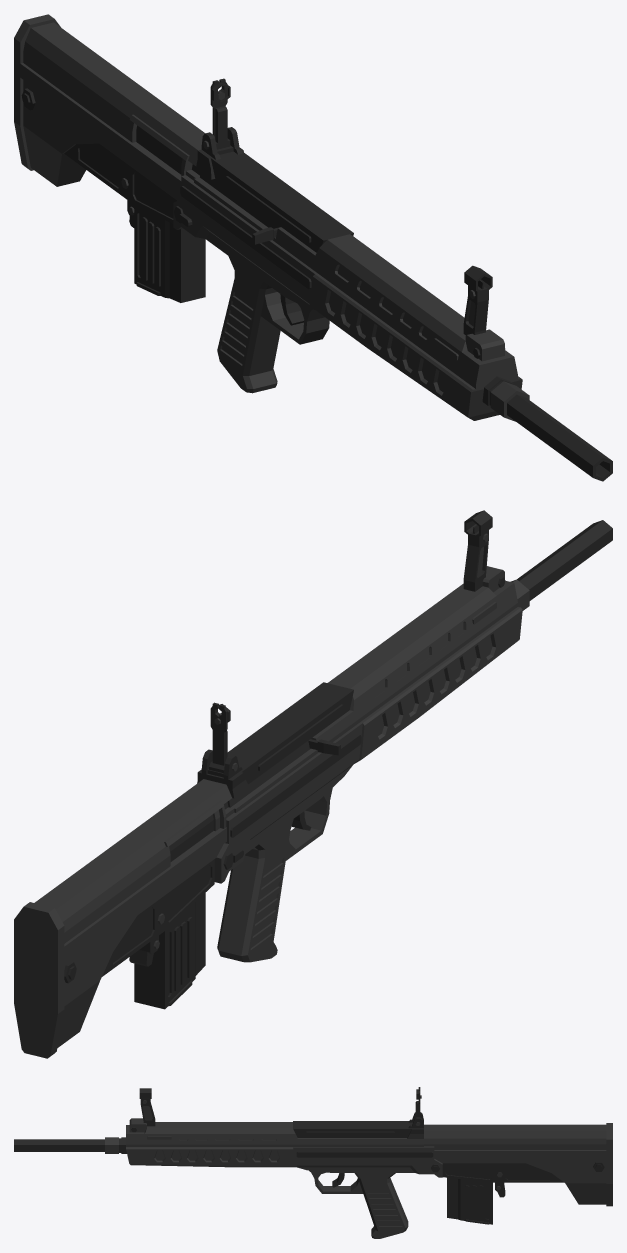
File: DMR_E.fbx
The picture shows the model from 3 angles, top to bottom: view 1: azimuth 30°, elevation 25°; view 2: azimuth 150°, elevation 25°; view 3: azimuth 270°, elevation 25°; orthographic projection. The views are drawn at different scales.
Parts seen in each view (by area): view 1: DMR_E_Receiver, DMR_E_Mag, DMR_E_Barrel, DMR_E_Sight_Forward, DMR_E_Sight_Back; view 2: DMR_E_Receiver, DMR_E_Mag, DMR_E_Barrel, DMR_E_Sight_Forward, DMR_E_Sight_Back; view 3: DMR_E_Receiver, DMR_E_Mag, DMR_E_Barrel, DMR_E_Sight_Forward.
Boxes of the visible parts, x1=… form: DMR_E_Receiver: x1=14, y1=14, x2=522, y2=420; DMR_E_Mag: x1=134, y1=204, x2=205, y2=302; DMR_E_Barrel: x1=482, y1=376, x2=612, y2=481; DMR_E_Sight_Forward: x1=463, y1=265, x2=492, y2=335; DMR_E_Sight_Back: x1=210, y1=78, x2=230, y2=149; DMR_E_Receiver: x1=14, y1=566, x2=522, y2=1058; DMR_E_Mag: x1=134, y1=893, x2=205, y2=1009; DMR_E_Barrel: x1=510, y1=520, x2=612, y2=610; DMR_E_Sight_Forward: x1=463, y1=510, x2=492, y2=591; DMR_E_Sight_Back: x1=209, y1=702, x2=230, y2=773; DMR_E_Receiver: x1=126, y1=1112, x2=612, y2=1238; DMR_E_Mag: x1=447, y1=1177, x2=492, y2=1224; DMR_E_Barrel: x1=14, y1=1137, x2=126, y2=1153; DMR_E_Sight_Forward: x1=139, y1=1088, x2=155, y2=1126.
Bounding box in the file's own units: 0.0912 × 0.3463 × 1.28.
